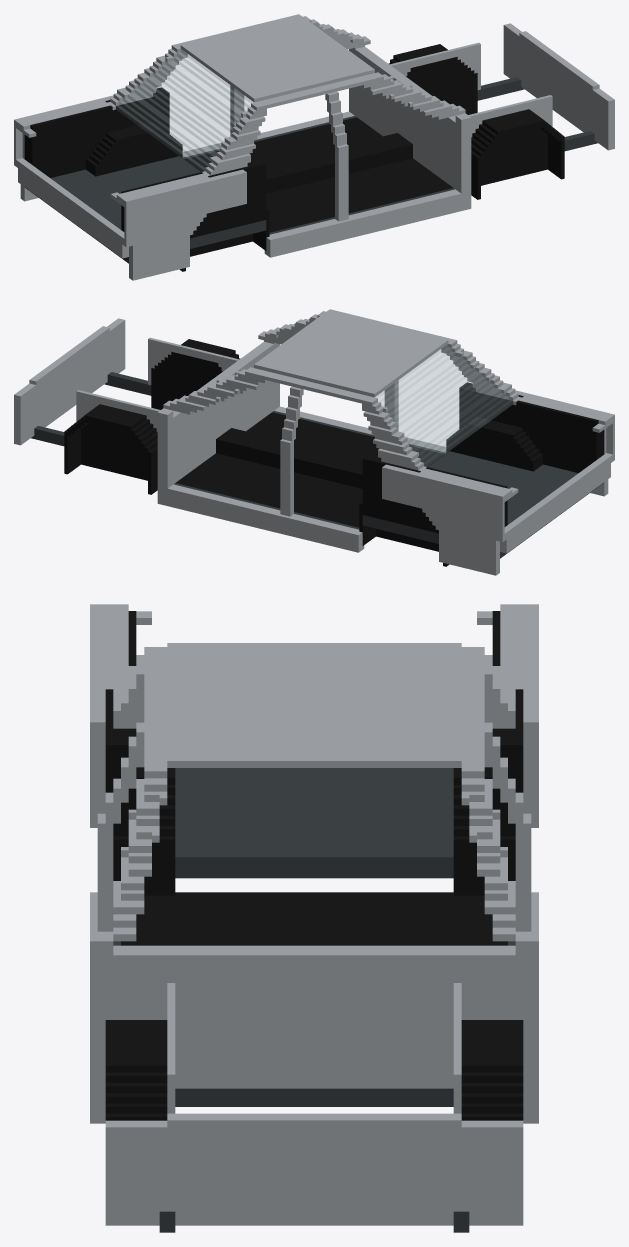
Rendered from saloon_shell.glb.
3 renders of one model, top to bottom at view 1: azimuth 30°, elevation 25°; view 2: azimuth 150°, elevation 25°; view 3: azimuth 270°, elevation 25°, orthographic. The views are drawn at different scales.
Visible parts, largest first — view 1: body:compound; view 2: body:compound; view 3: body:compound.
Boxes of the visible parts, left/top/right/bottom form: body:compound: left=14, top=14, right=614, bottom=280; body:compound: left=14, top=309, right=614, bottom=575; body:compound: left=90, top=604, right=538, bottom=1232.
Bounding box in the file's own units: 4.59 × 1.28 × 1.81.
